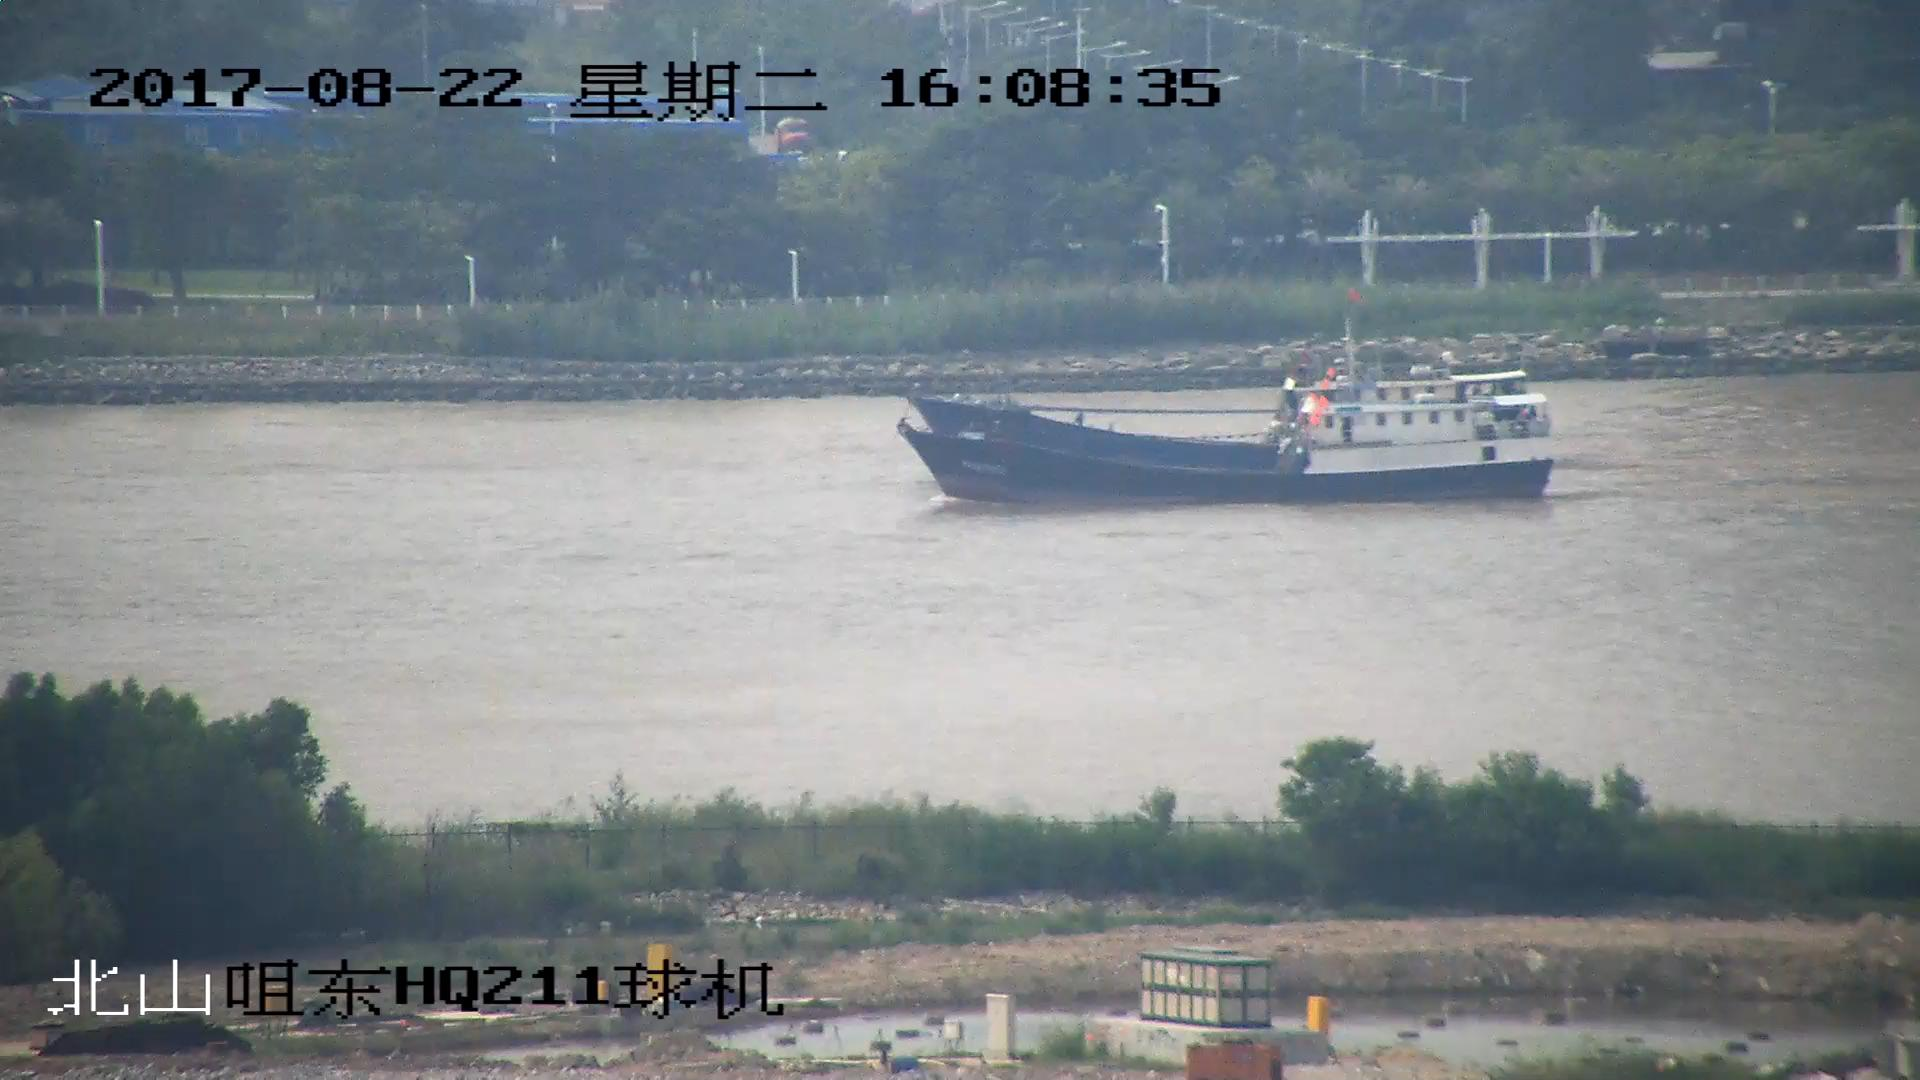fishing boat: (908, 290, 1546, 456), (902, 371, 1555, 501)
